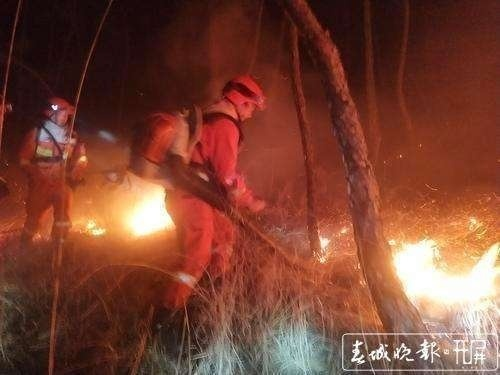fire: (391, 225, 500, 308), (124, 183, 174, 236), (312, 223, 347, 265), (80, 215, 107, 237)
